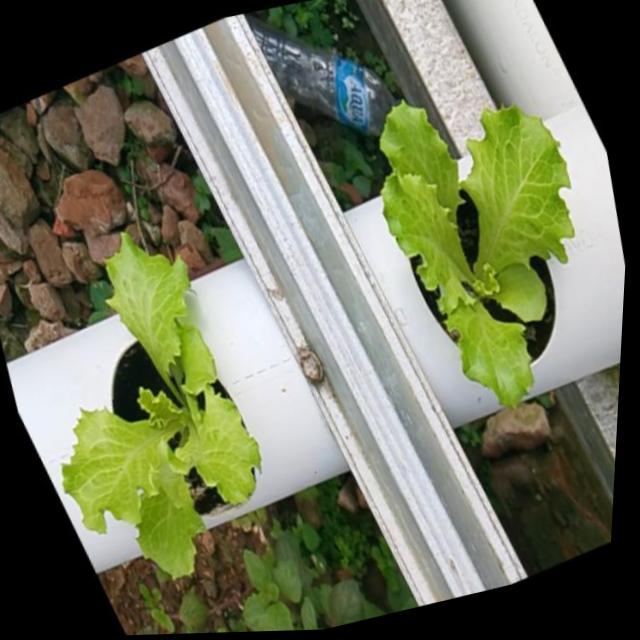Baby: (64, 240, 261, 585), (380, 106, 573, 418)
